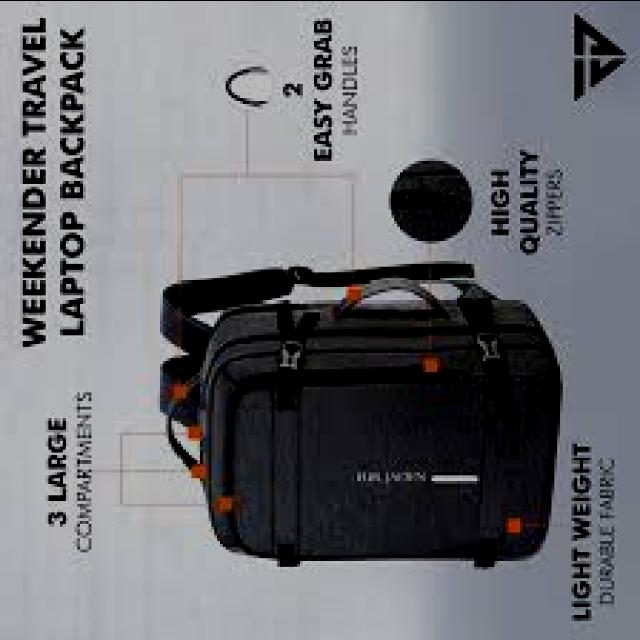backpack: (158, 264, 561, 570)
